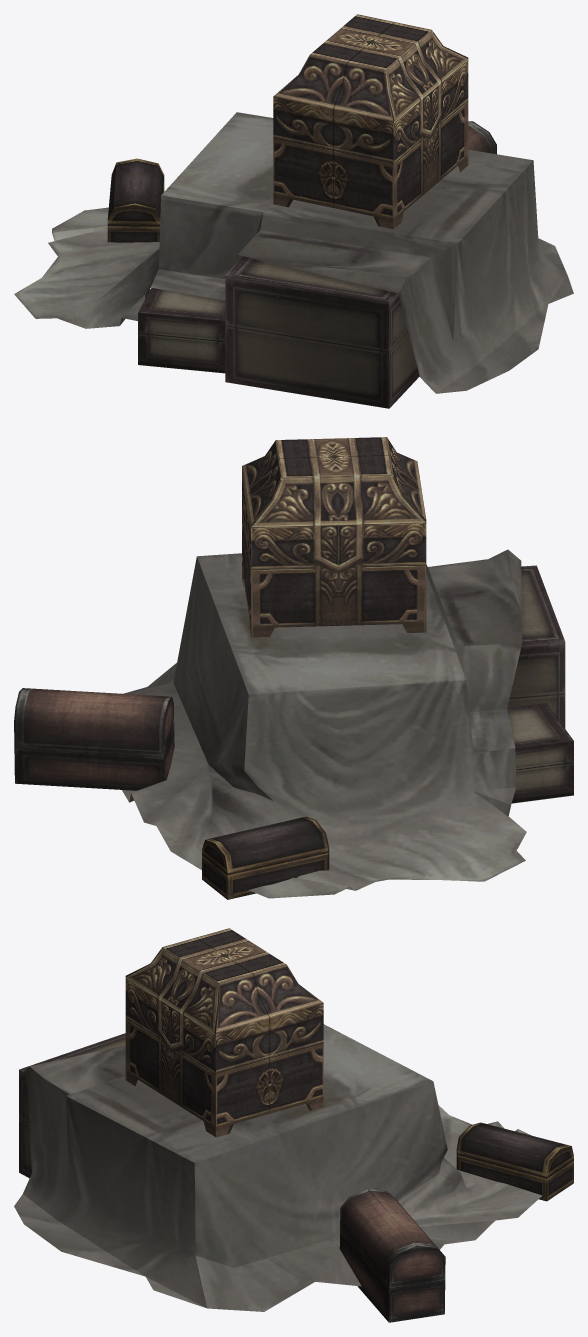
File: 4005__Item_xiangzi_1.FBX
3 renders of one model, top to bottom at view 1: azimuth 30°, elevation 25°; view 2: azimuth 150°, elevation 25°; view 3: azimuth 270°, elevation 25°, orthographic. The views are drawn at different scales.
Visible parts, largest first — view 1: 4005__Item_xiangzi_1; view 2: 4005__Item_xiangzi_1; view 3: 4005__Item_xiangzi_1.
Boxes of the visible parts, x1,y1,x2,y2 form: 4005__Item_xiangzi_1: (14,14,573,408); 4005__Item_xiangzi_1: (14,437,573,899); 4005__Item_xiangzi_1: (14,928,573,1322).
Size of the model in its own units: 312 by 177 by 333.
